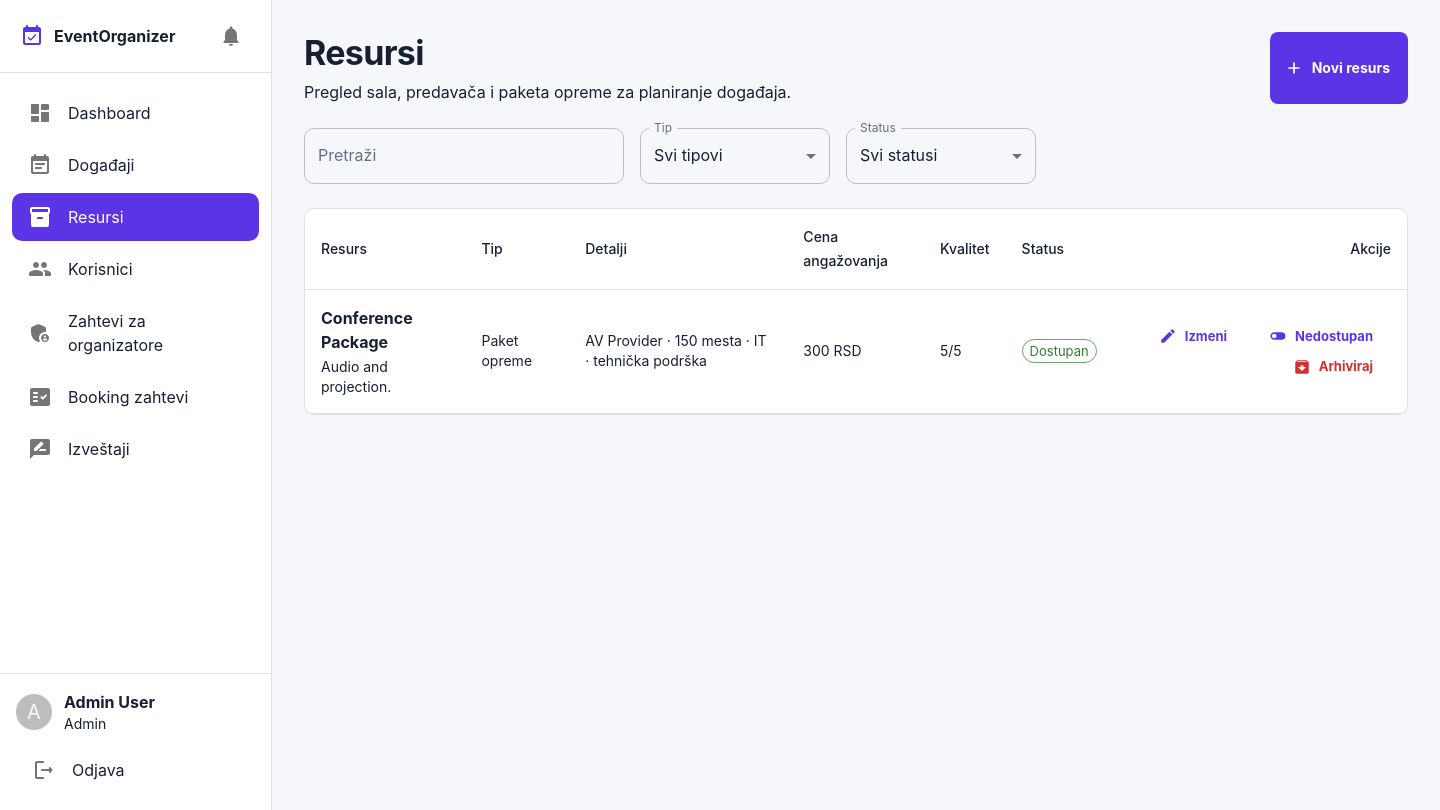
Test: App › loads resources for an admin and shows management actions
The width and height of the screenshot is (1440, 810).
Check: the text "Conference Package" is shown, box [321,308,413,352]
Check: the button "Novi resurs" is shown, box [1270,32,1408,104]
Click the button "Arhiviraj".
click(1334, 367)  # box [1277,351,1391,382]
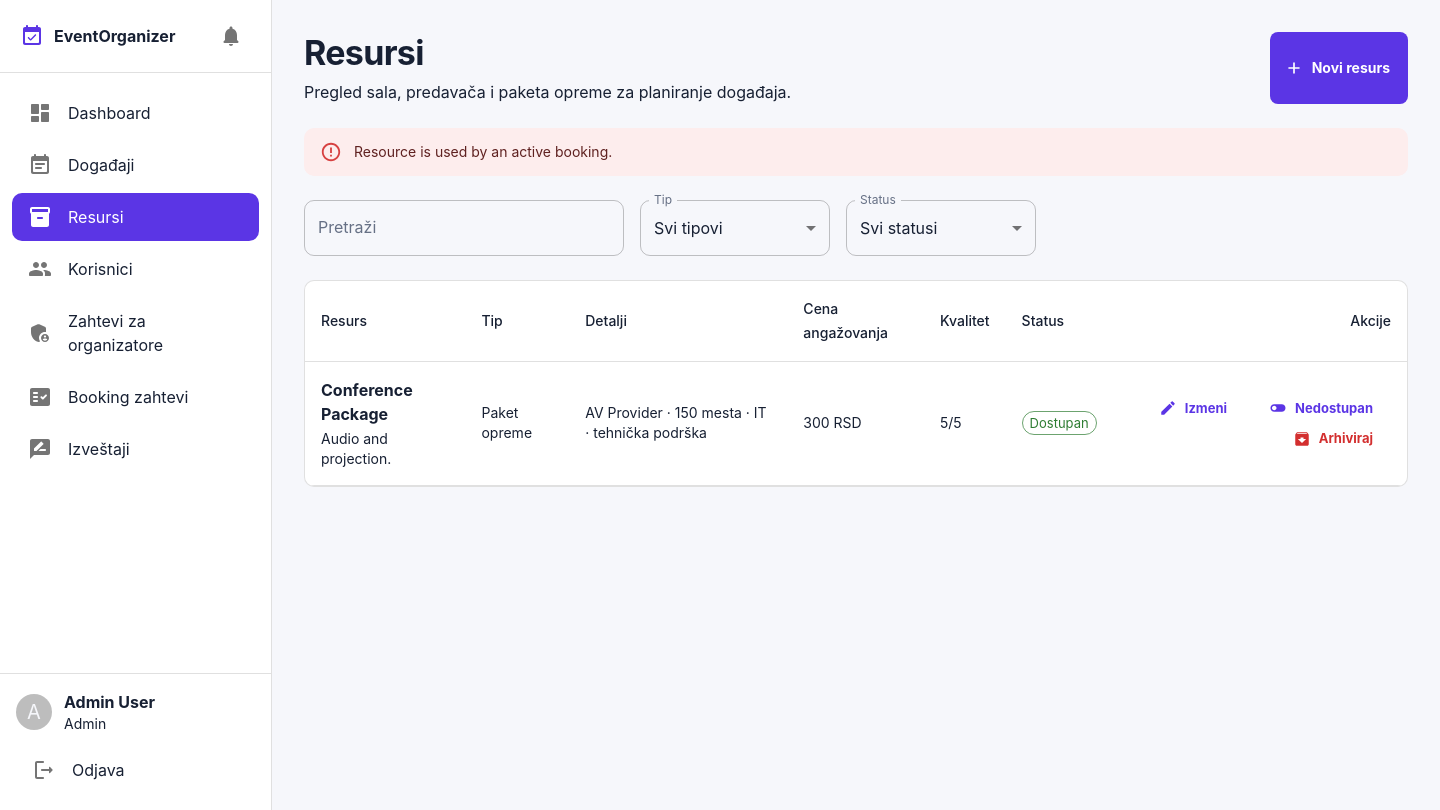
Check: the text "Resource is used by an active booking." is shown, box [354,143,612,160]
